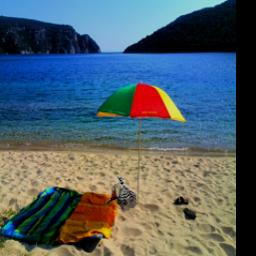Woodpecker: (105, 176, 136, 212)
